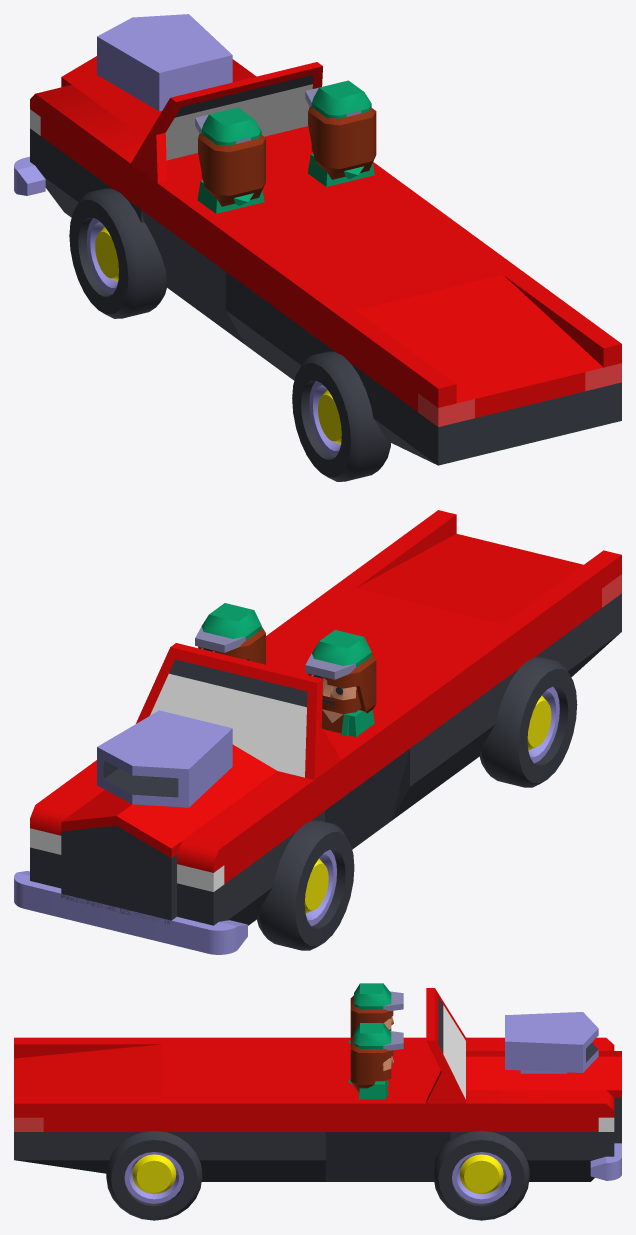
Rendered from obstacle_convertable.glb.
3 views of the same model, one above another, from view 1: azimuth 30°, elevation 25°; view 2: azimuth 150°, elevation 25°; view 3: azimuth 270°, elevation 25° (orthographic). The views are drawn at different scales.
Visible parts, largest first — view 1: mergedBlocks(Clone); view 2: mergedBlocks(Clone); view 3: mergedBlocks(Clone).
Part boxes in pixels (x1,y1,x2,y2): mergedBlocks(Clone): [14, 14, 621, 481]; mergedBlocks(Clone): [14, 510, 621, 954]; mergedBlocks(Clone): [14, 983, 621, 1220].
Bounding box in the file's own units: 1.22 × 1.25 × 3.9.
Materials: 1 (1 with a texture image).
